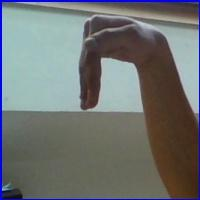del: (72, 12, 176, 121)
